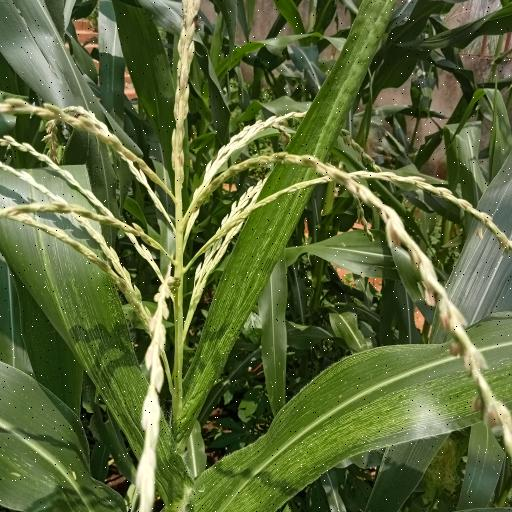Corn_Streak: (191, 313, 512, 509)
